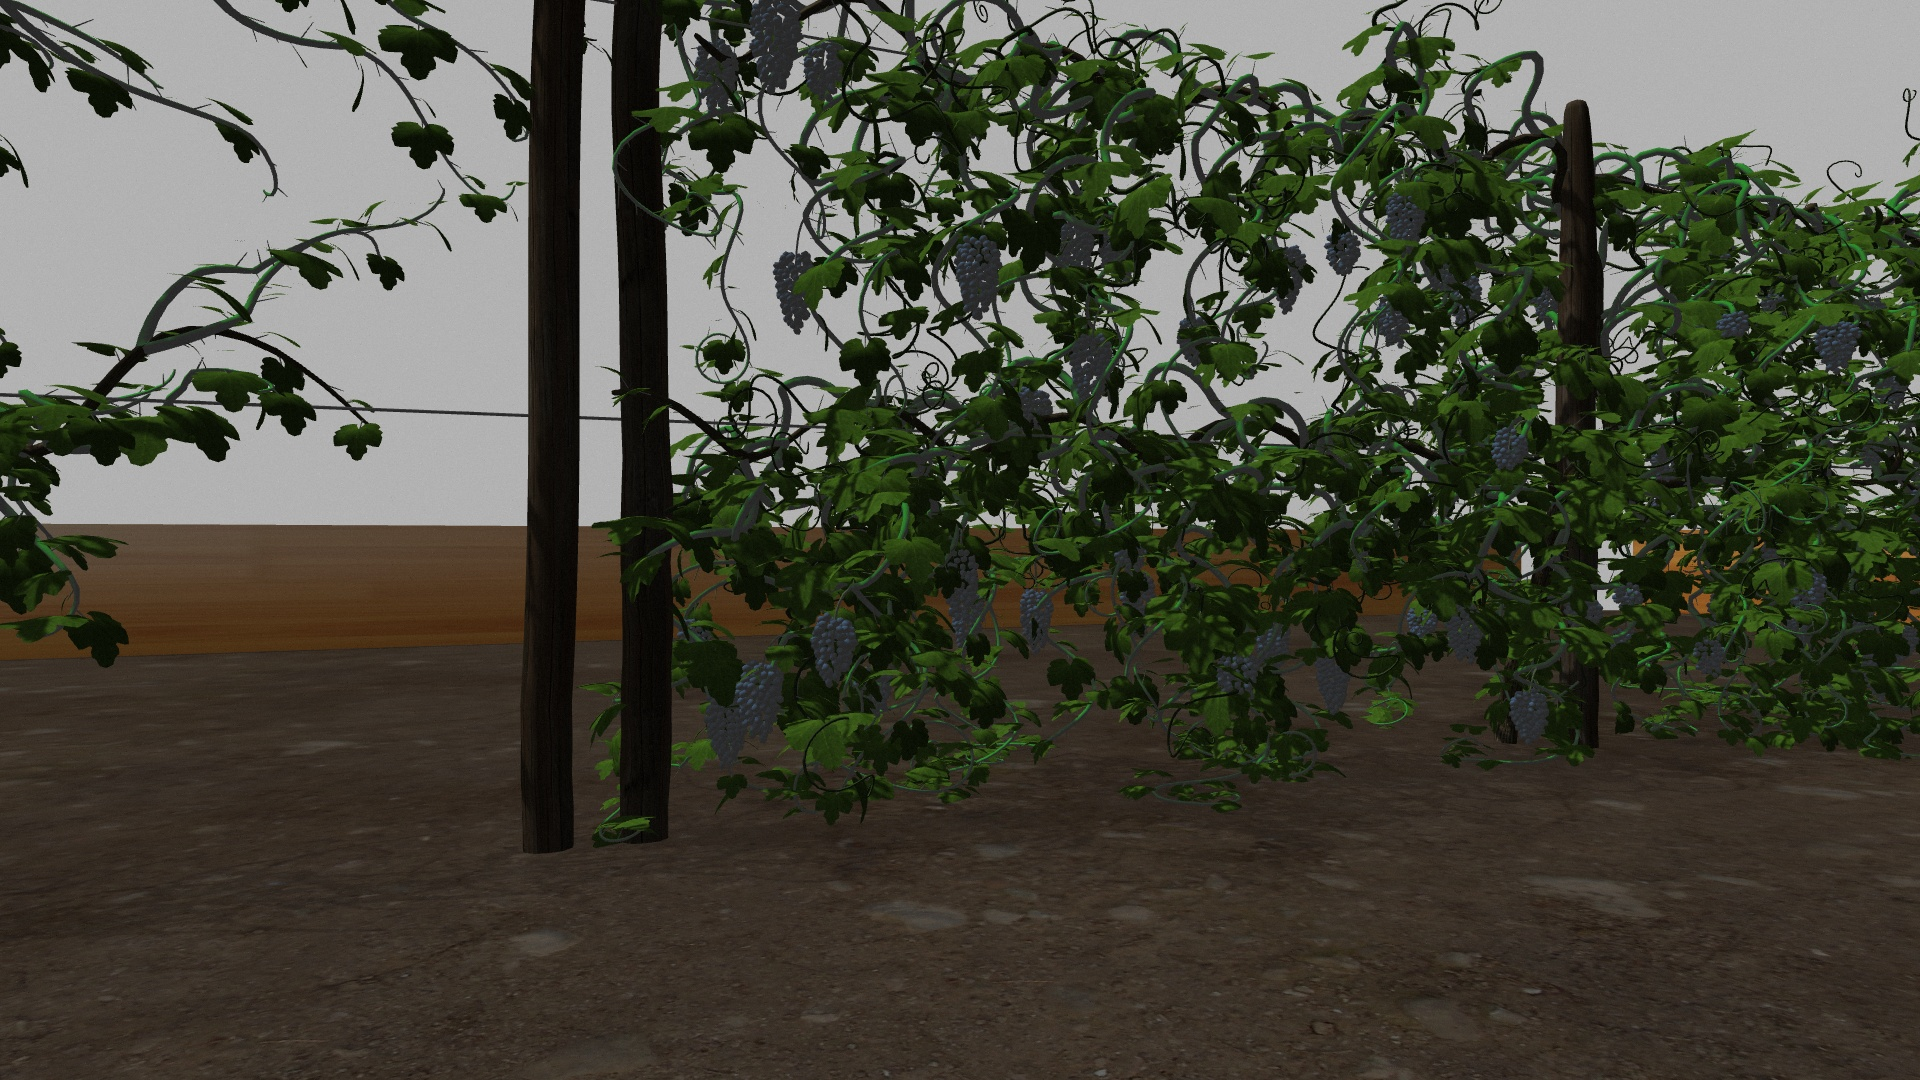grape: (749, 3, 802, 94), (953, 233, 1001, 320), (808, 611, 858, 691), (736, 665, 785, 742), (773, 249, 818, 334), (702, 698, 748, 771), (695, 40, 740, 113), (1069, 332, 1113, 406), (803, 41, 847, 104), (1383, 189, 1428, 245), (1313, 647, 1350, 716), (943, 549, 978, 618), (1509, 686, 1549, 746), (1274, 245, 1308, 316), (1815, 318, 1859, 371), (1019, 589, 1054, 651), (1447, 608, 1485, 661), (1490, 423, 1528, 473), (1377, 293, 1410, 349), (1324, 231, 1364, 276), (1062, 222, 1096, 273), (949, 601, 986, 646), (1218, 653, 1258, 694), (1692, 636, 1727, 679), (1255, 621, 1294, 659), (1718, 309, 1750, 342), (1404, 608, 1439, 637), (1613, 582, 1644, 605)
